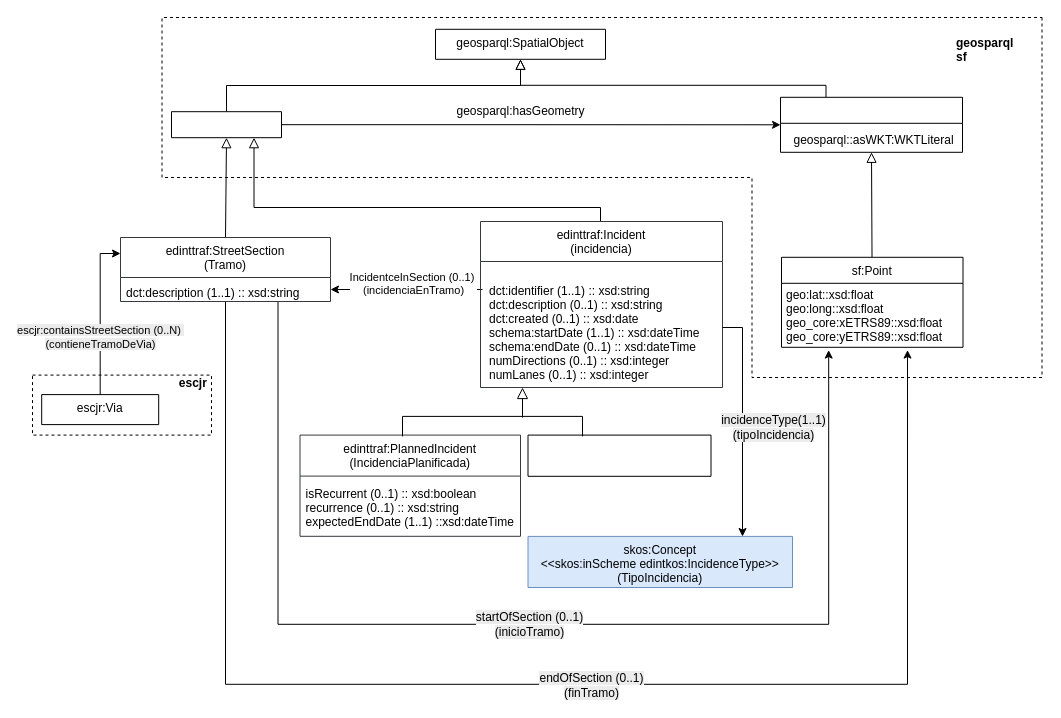
This 1061x718 diagram has some shape labels left out. The shapes that lost their labels are listed below. From the top down, each one's centre as x and y in pixels, then its label:
At (226,124): "geosparql:Feature".
At (871,124): "geosparql:Geometry".
At (619,455): "edinttraf:UnplannedIncident (IncidenciaNoPlanificada)".
